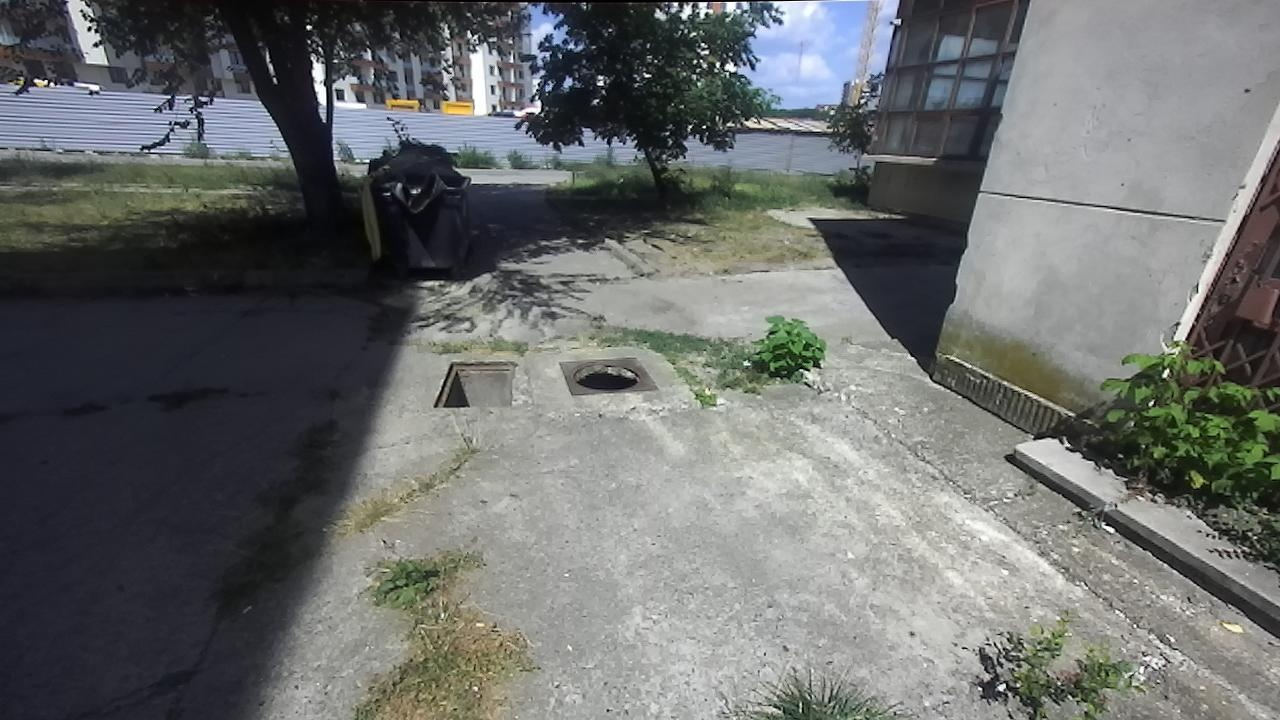drain: (432, 356, 520, 407), (568, 359, 644, 393)
